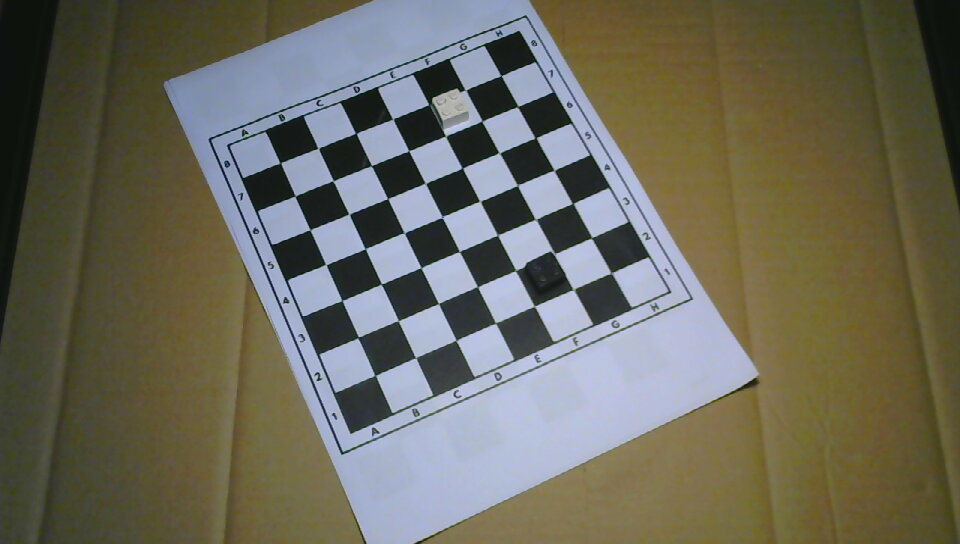bp: (526, 252, 566, 295)
wp: (432, 88, 469, 129)
